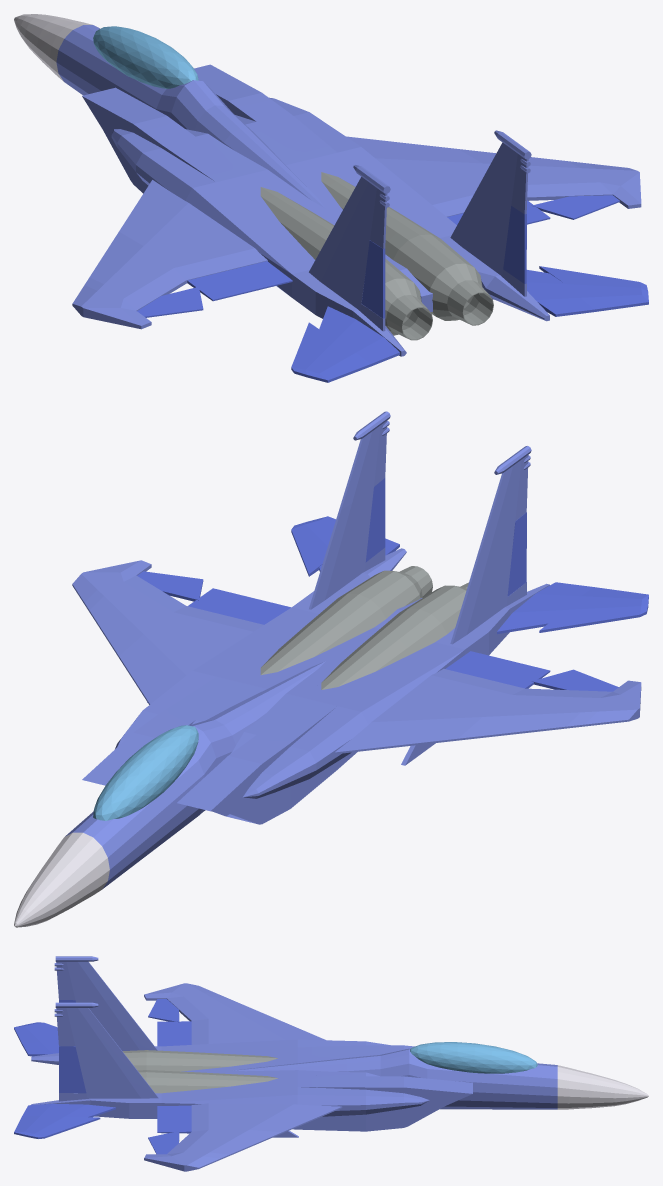
3 renders of one model, top to bottom at view 1: azimuth 30°, elevation 25°; view 2: azimuth 150°, elevation 25°; view 3: azimuth 270°, elevation 25°, orthographic. The views are drawn at different scales.
Parts seen in each view (by area): view 1: Wings, UpperFuselage, Fuselage, Rudders, Engines, Cockpit, LeftElevator, RightElevator, Canopy, Airbrake, LeftFlap, Nose (+4 smaller); view 2: Wings, Fuselage, UpperFuselage, Rudders, Engines, Cockpit, Nose, Canopy, LeftElevator, Airbrake, LeftFlap, RightFlap (+5 smaller); view 3: Wings, Rudders, Fuselage, UpperFuselage, Cockpit, Engines, Canopy, Nose, RightElevator, Airbrake, LeftElevator, RightRudder (+4 smaller).
Boxes of the visible parts, x1,y1,x2,y2 form: Wings: (72,136,641,329); UpperFuselage: (111,97,549,356); Fuselage: (82,64,432,312); Rudders: (309,130,531,331); Engines: (260,172,493,340); Cockpit: (56,25,325,208); LeftElevator: (291,306,399,382); RightElevator: (526,266,648,316); Canopy: (93,26,198,88); Airbrake: (219,128,319,191); LeftFlap: (187,261,292,301); Nose: (14,14,92,81); Wings: (72,560,641,765); Fuselage: (82,598,422,824); UpperFuselage: (115,548,549,798); Rudders: (309,411,531,644); Engines: (260,566,468,689); Cockpit: (65,661,325,889); Nose: (14,832,109,927); Canopy: (93,725,198,820); LeftElevator: (497,582,648,634); Airbrake: (219,672,319,722); LeftFlap: (446,651,550,688); RightFlap: (188,588,291,624); Wings: (144,983,342,1171); Rudders: (54,956,158,1101); Fuselage: (177,1045,472,1131); UpperFuselage: (31,1039,429,1118); Cockpit: (232,1048,557,1109); Engines: (122,1050,278,1093); Canopy: (410,1042,537,1073); Nose: (557,1065,648,1109); RightElevator: (14,1103,115,1138); Airbrake: (268,1058,346,1075); LeftElevator: (14,1022,58,1056); RightRudder: (59,1046,86,1093).
Bounding box in the file's own units: 13.02 × 4.37 × 19.19.
